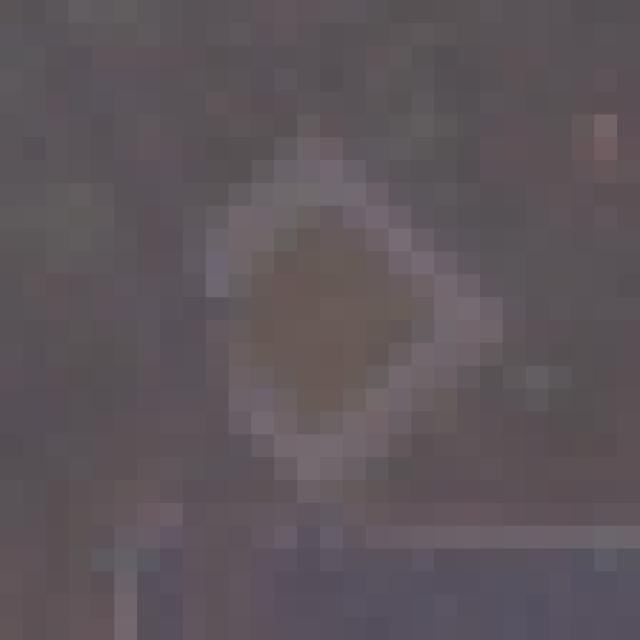Main Road: (115, 115, 527, 527)
